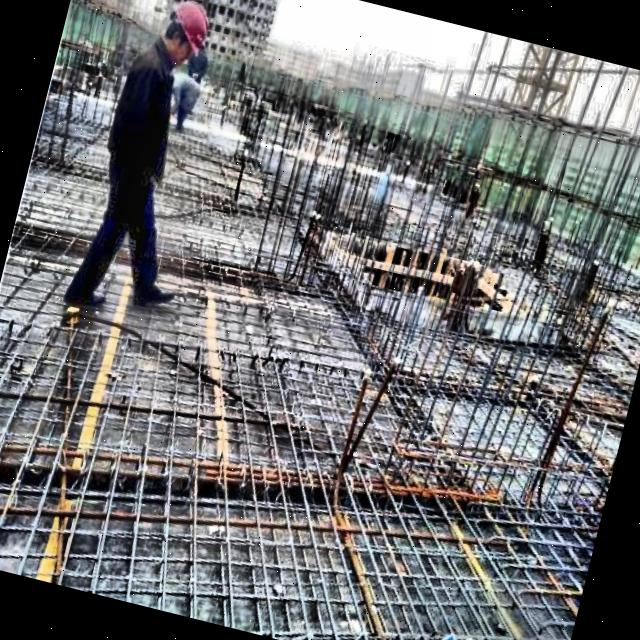helmet: (152, 0, 223, 76)
